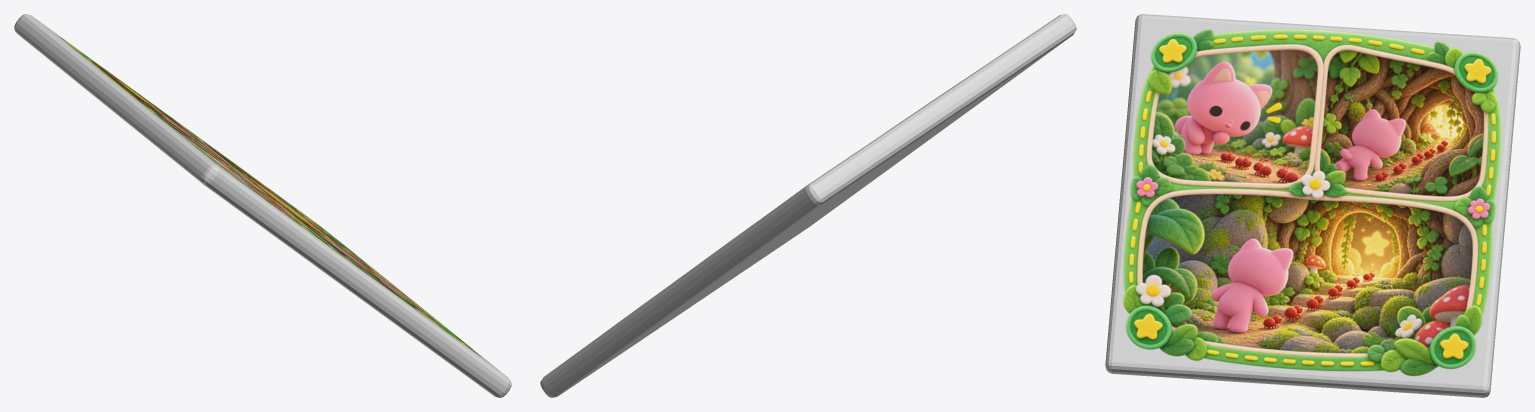
The model's file is memory_8.glb.
3 views of the same model, side by side, from view 1: azimuth 30°, elevation 25°; view 2: azimuth 150°, elevation 25°; view 3: azimuth 270°, elevation 25° (orthographic). The views are drawn at different scales.
Parts seen in each view (by area): view 1: memory_8_page; view 2: memory_8_page; view 3: memory_8_page.
Part boxes in pixels (box(x1,y1,x2,y2)): memory_8_page: box(14, 14, 511, 397); memory_8_page: box(540, 14, 1076, 397); memory_8_page: box(1105, 14, 1520, 397).
Size of what is drawn, in the model's own units: 0.6586 by 0.5878 by 0.8595.
Materials: 2 (1 with a texture image).
